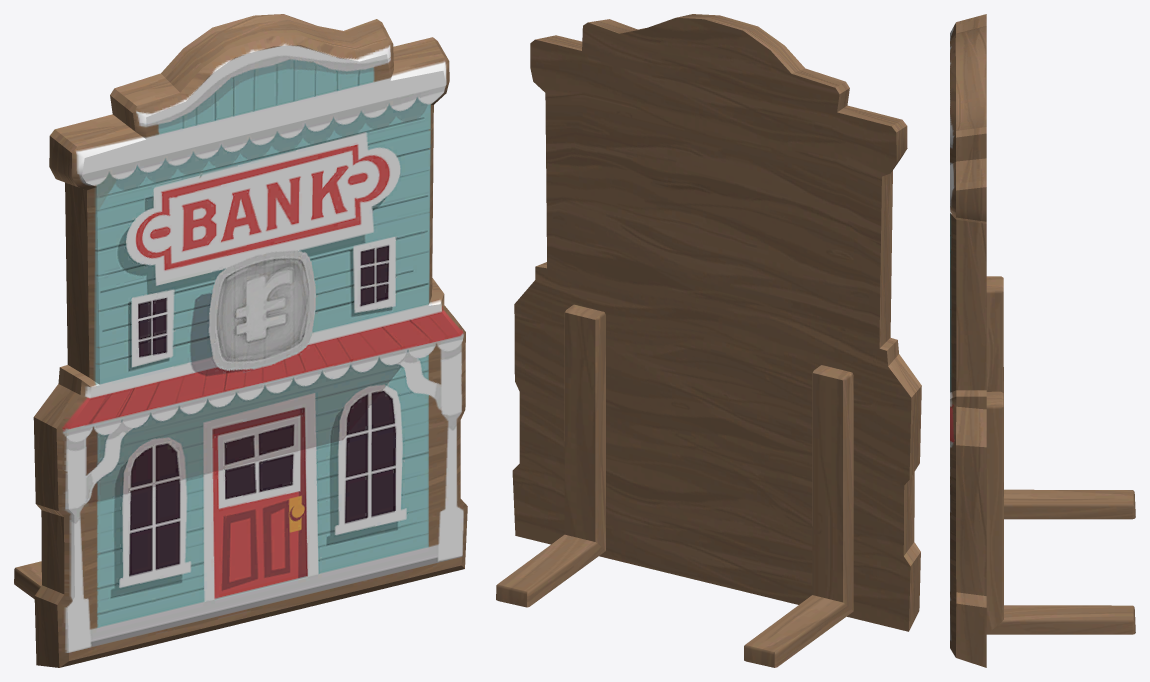
File: bank cutout.glb
3 views of the same model, side by side, from view 1: azimuth 30°, elevation 25°; view 2: azimuth 150°, elevation 25°; view 3: azimuth 270°, elevation 25° (orthographic). The views are drawn at different scales.
Parts seen in each view (by area): view 1: Standee_Bank_LOD0; view 2: Standee_Bank_LOD0; view 3: Standee_Bank_LOD0.
Boxes of the visible parts, x1=… form: Standee_Bank_LOD0: x1=14, y1=14, x2=467, y2=667; Standee_Bank_LOD0: x1=496, y1=14, x2=921, y2=667; Standee_Bank_LOD0: x1=950, y1=14, x2=1135, y2=667.
Size of the model in its own units: 2.82 by 3.81 by 1.19.
1 material, 1 textured.
